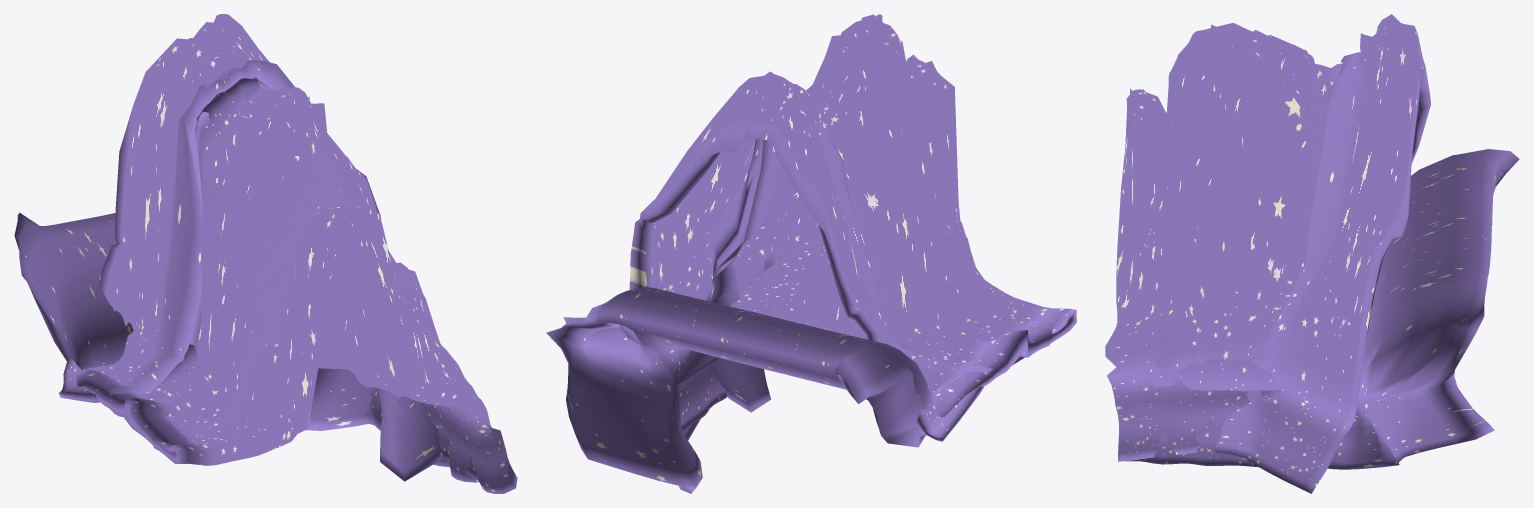
The model's file is duvet.fbx.
3 renders of one model, left to right at view 1: azimuth 30°, elevation 25°; view 2: azimuth 150°, elevation 25°; view 3: azimuth 270°, elevation 25°, orthographic. The views are drawn at different scales.
Parts seen in each view (by area): view 1: Couette; view 2: Couette; view 3: Couette.
Part boxes in pixels (box(x1,y1,x2,y2)): Couette: box(14, 14, 517, 493); Couette: box(546, 14, 1076, 493); Couette: box(1105, 14, 1519, 493).
Size of the model in its own units: 1.42 by 1.63 by 1.48.
